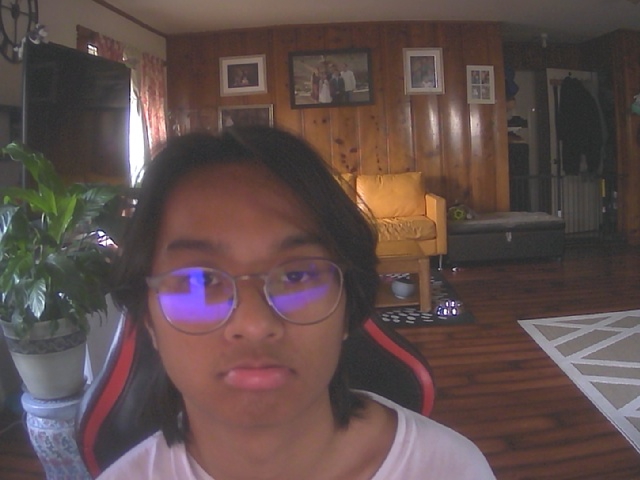sad: (134, 126, 363, 430)
